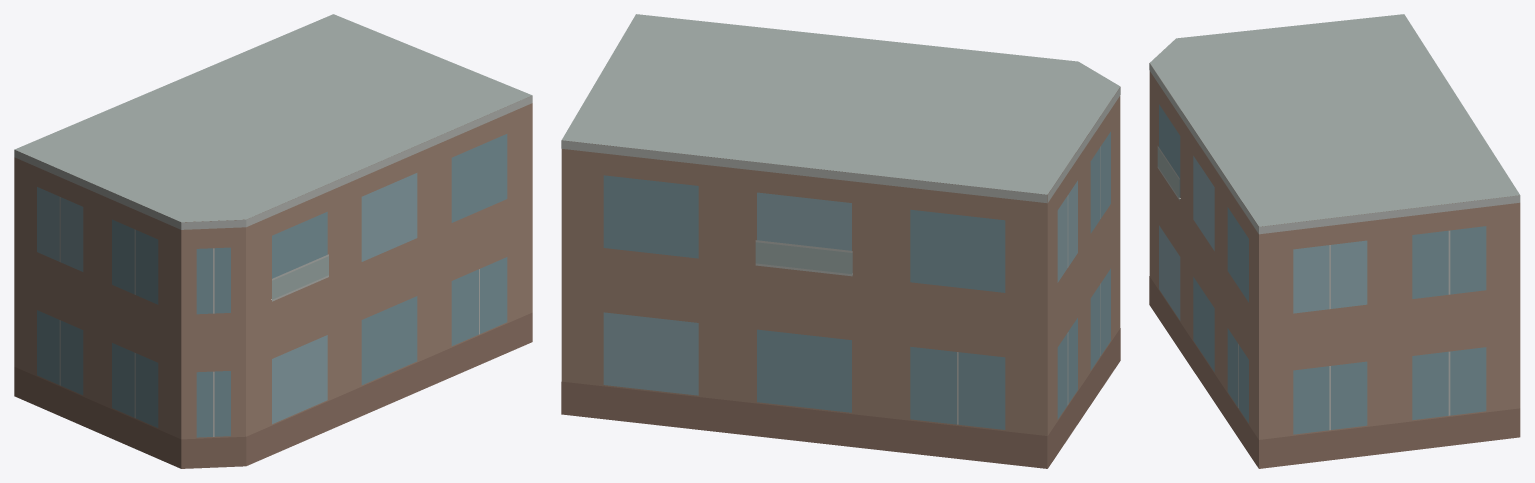
The model's file is survey-upis-32751371.glb.
3 views of the same model, side by side, from view 1: azimuth 30°, elevation 25°; view 2: azimuth 150°, elevation 25°; view 3: azimuth 270°, elevation 25° (orthographic). The views are drawn at different scales.
Parts seen in each view (by area): view 1: survey-upis-32751371.tmp; view 2: survey-upis-32751371.tmp; view 3: survey-upis-32751371.tmp.
Boxes of the visible parts, bbox=[...] form: survey-upis-32751371.tmp: bbox=[14, 14, 532, 468]; survey-upis-32751371.tmp: bbox=[561, 14, 1120, 468]; survey-upis-32751371.tmp: bbox=[1149, 14, 1520, 468].
Bounding box in the file's own units: 14.81 × 7.85 × 10.91.
